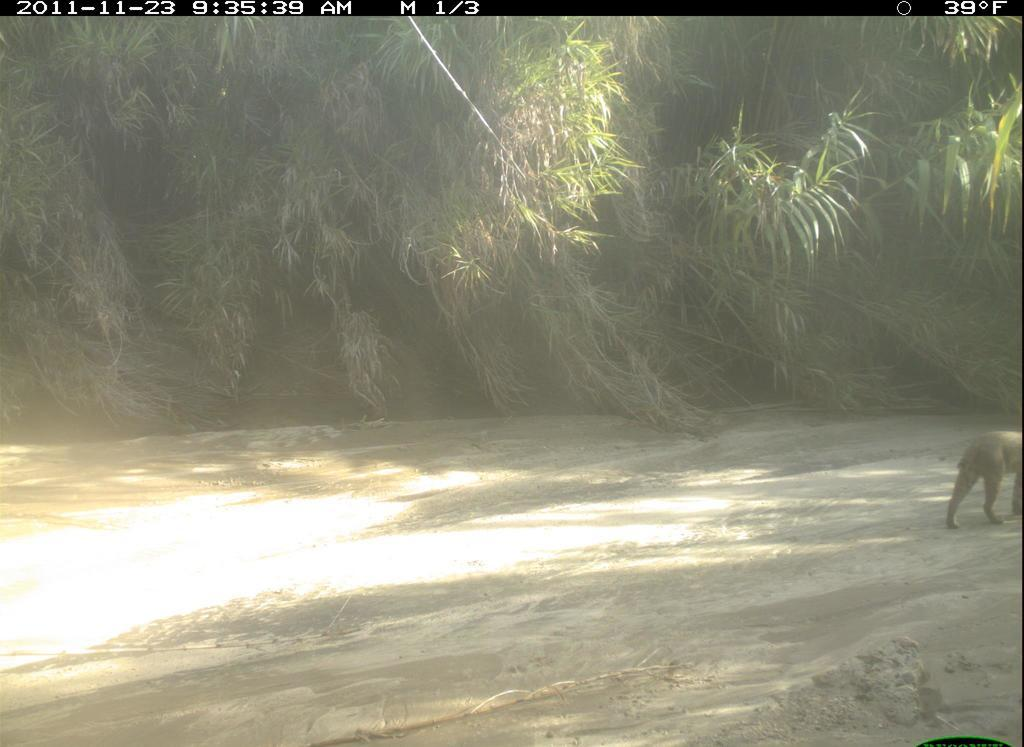bobcat: (932, 420, 1023, 536)
